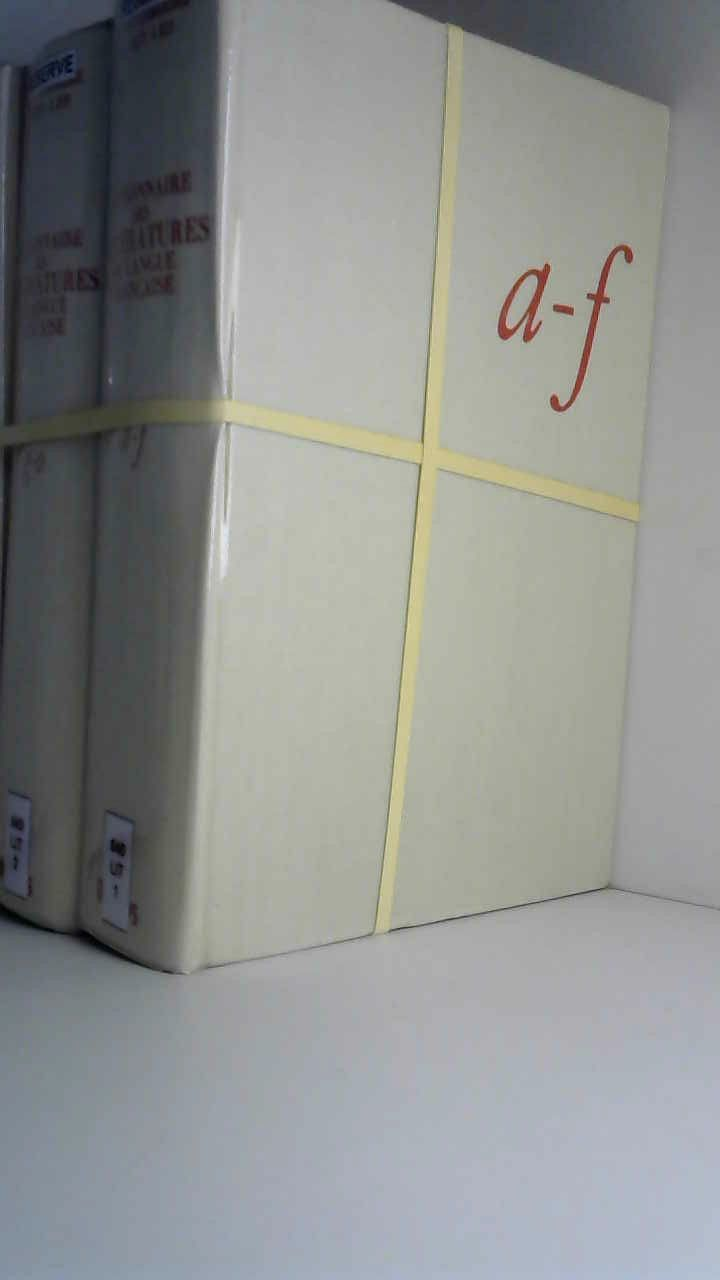book: (0, 0, 691, 999)
